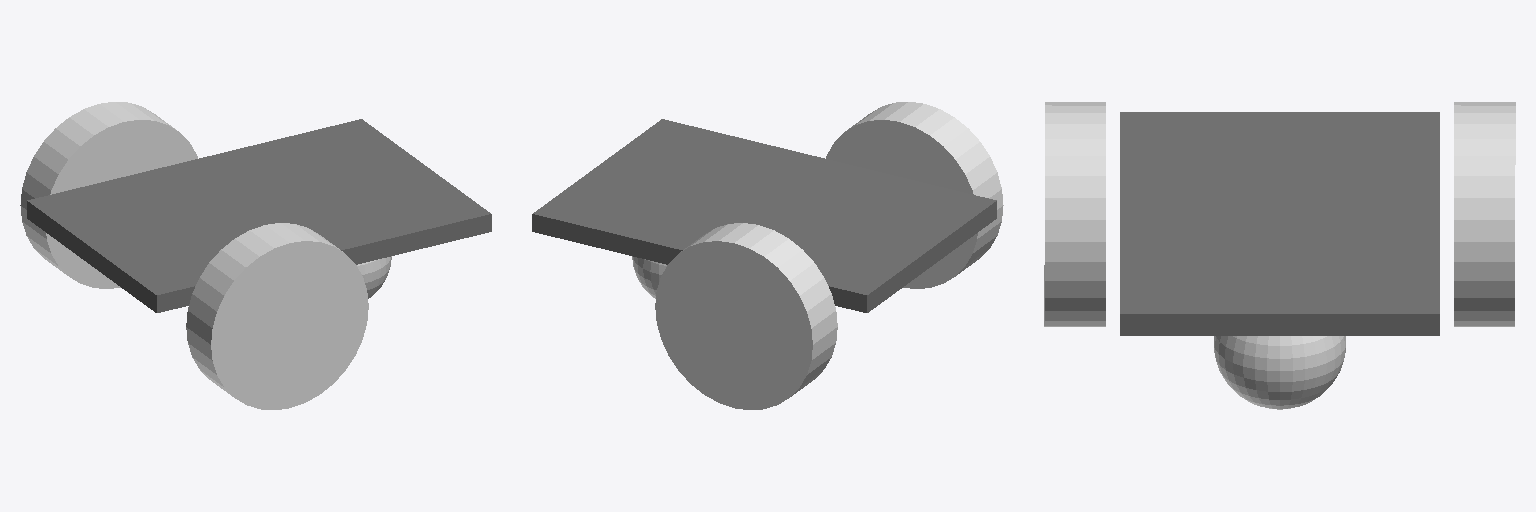
URDF robot description (pepi):
<?xml version="1.0"?>
<robot name="pepi">

    <material name="body_color">
        <color rgba="0.5 0.5 0.5 1"/>
    </material>
    <material name="wheel_color">
        <color rgba="0.90 0.90 0.90 0.9"/>
    </material>

    <link name="base_link">
        <visual>
            <geometry>
                <box size="0.35 0.235 0.018"/>
            </geometry>
            <origin xyz="0 0.0 0.009" rpy="0.0 0.0 0.0" />
            <material name="body_color"/>
        </visual>
    </link>

    <link name="right_wheel_link">
        <visual>
            <geometry>
                <cylinder radius="0.0825" length="0.045"/>
            </geometry>
            <origin xyz="0.0 0.0 0.0" rpy="1.57 0.0 0.0"/>
            <material name="wheel_color"/>
        </visual>
    </link>

    <link name="left_wheel_link">
        <visual>
            <geometry>
                <cylinder radius="0.0825" length="0.045"/>
            </geometry>
            <origin xyz="0.0 0.0 0.0" rpy="1.57 0.0 0.0"/>
            <material name="wheel_color"/>
        </visual>
    </link>
    
    <link name="caster_wheel_link">
        <visual>
            <geometry>
                <sphere radius="0.04875"/>
            </geometry>
            <origin xyz="0.0 0.0 0.0" rpy="0.0 0.0 0.0"/>
            <material name="wheel_color"/>
        </visual>
    </link>

    <link name="base_foot_link">
        
    </link>


    <joint name="base_right_wheel" type="continuous">
        <origin xyz="-0.0675 -0.15 -0.015" rpy="0 0.0 0.0"/>
        <parent link="base_link"/>
        <child link="right_wheel_link"/>
        <axis xyz="0 1 0"/>
    </joint>

    <joint name="base_left_wheel" type="continuous">
        <origin xyz="-0.0675 0.15 -0.015" rpy="0 0.0 0.0"/>
        <parent link="base_link"/>
        <child link="left_wheel_link"/>
        <axis xyz="0 1 0"/>
    </joint>

    <joint name="base_caster_wheel" type="fixed">
        <origin xyz="0.0825 0.0 -0.04875" rpy="0.0 0.0 0.0"/>
        <parent link="base_link"/>
        <child link="caster_wheel_link"/>
        <axis xyz="0.0 0.0 0.0"/>
    </joint>

    <joint name="base_foo" type="fixed">
        <origin xyz="0.0 0.0 -0.0975"/>
        <parent link="base_link"/>
        <child link="base_foot_link"/>
        <axis xyz="0.0 0.0 0"/>
    </joint>

    
</robot>

--- What the picture shows (computed from the rendered views, not written in the file) ---
The picture shows the robot from 3 angles, left to right: view 1: azimuth 30°, elevation 25°; view 2: azimuth 150°, elevation 25°; view 3: azimuth 270°, elevation 25°; orthographic projection.
Model pepi with 5 links and 4 joints (2 continuous, 2 fixed), rooted at base_link, posed all joints at 0.
Visible links, largest first — view 1: base_link, right_wheel_link, left_wheel_link, caster_wheel_link; view 2: base_link, left_wheel_link, right_wheel_link, caster_wheel_link; view 3: base_link, left_wheel_link, right_wheel_link, caster_wheel_link.
Link boxes in pixels (<box>): base_link: <box>27,119,491,312</box>; right_wheel_link: <box>186,223,368,409</box>; left_wheel_link: <box>20,102,197,288</box>; caster_wheel_link: <box>357,256,391,298</box>; base_link: <box>532,119,996,312</box>; left_wheel_link: <box>655,223,837,409</box>; right_wheel_link: <box>826,102,1003,288</box>; caster_wheel_link: <box>632,256,666,298</box>; base_link: <box>1120,112,1439,335</box>; left_wheel_link: <box>1454,102,1515,326</box>; right_wheel_link: <box>1044,102,1105,326</box>; caster_wheel_link: <box>1214,336,1345,409</box>.
Bounding box of the posed robot: 0.35 × 0.3451 × 0.165 m (x, y, z).
Geometry: primitives only (box / cylinder / sphere), no mesh files.
